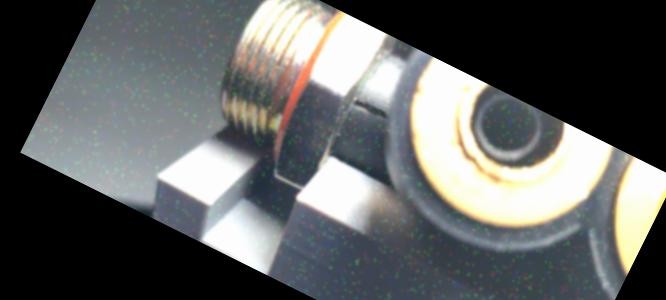craze: (348, 93, 391, 127)
